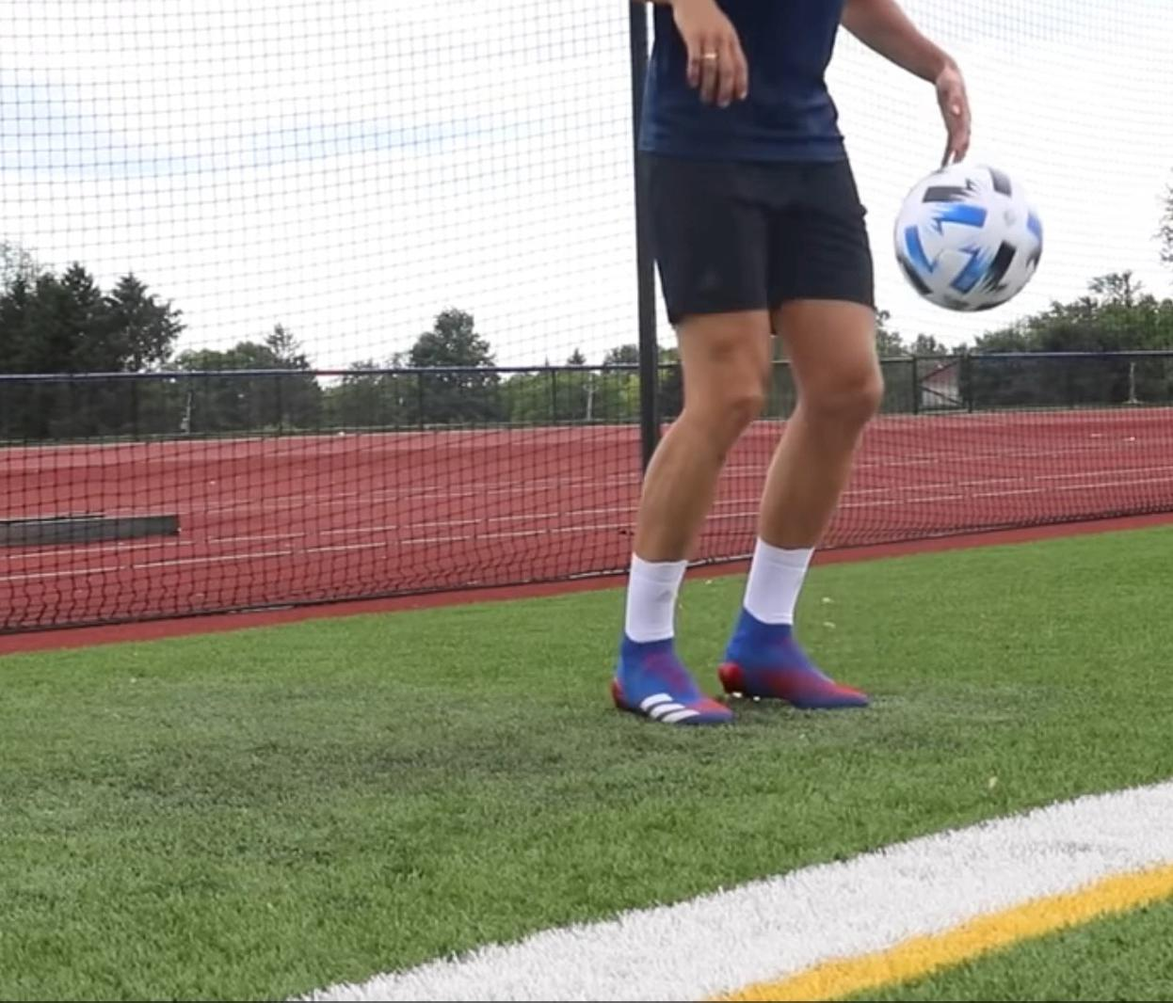ball: (895, 166, 1046, 312)
foot: (716, 620, 875, 715), (612, 640, 736, 729)
person: (615, 0, 976, 727)
